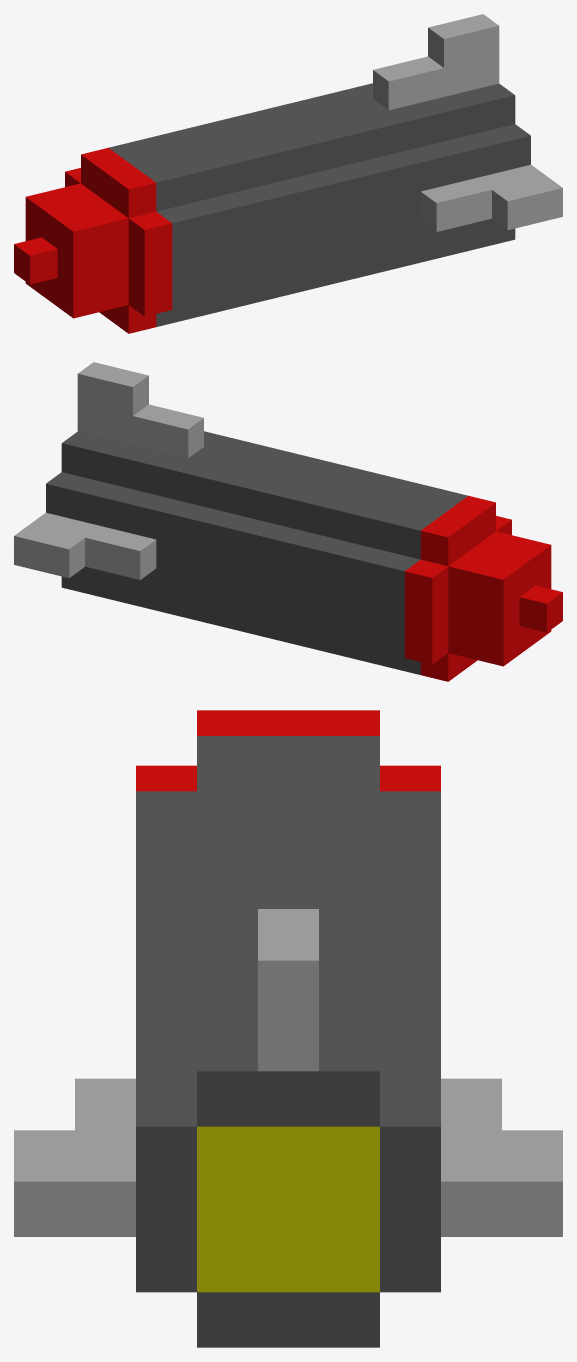
File: rocket.obj
3 renders of one model, top to bottom at view 1: azimuth 30°, elevation 25°; view 2: azimuth 150°, elevation 25°; view 3: azimuth 270°, elevation 25°, orthographic. The views are drawn at different scales.
Bounding box in the file's own units: 1.7 × 0.7 × 0.9.
